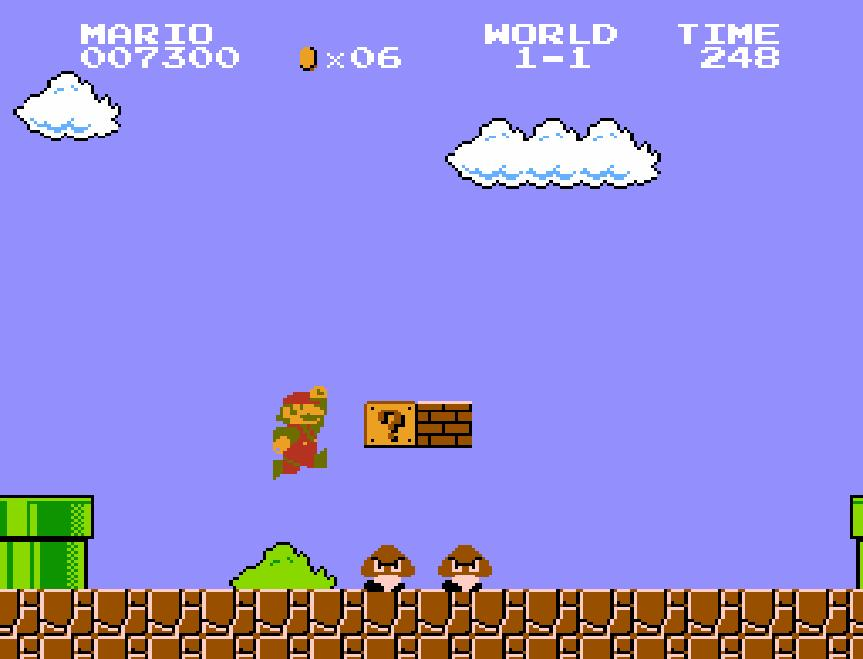big_mario: (270, 384, 328, 482)
